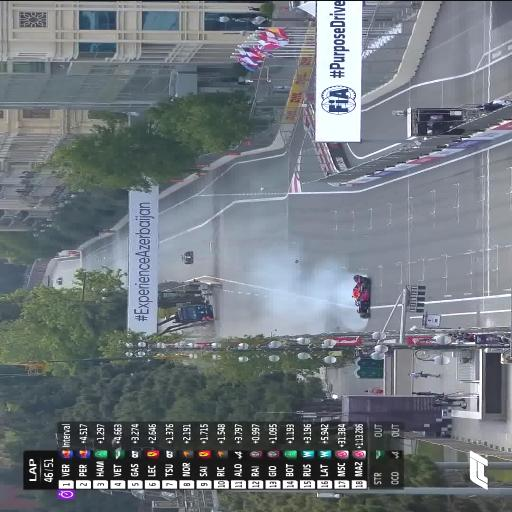f1_car: (352, 274, 370, 318), (180, 250, 192, 263), (56, 277, 62, 284)
